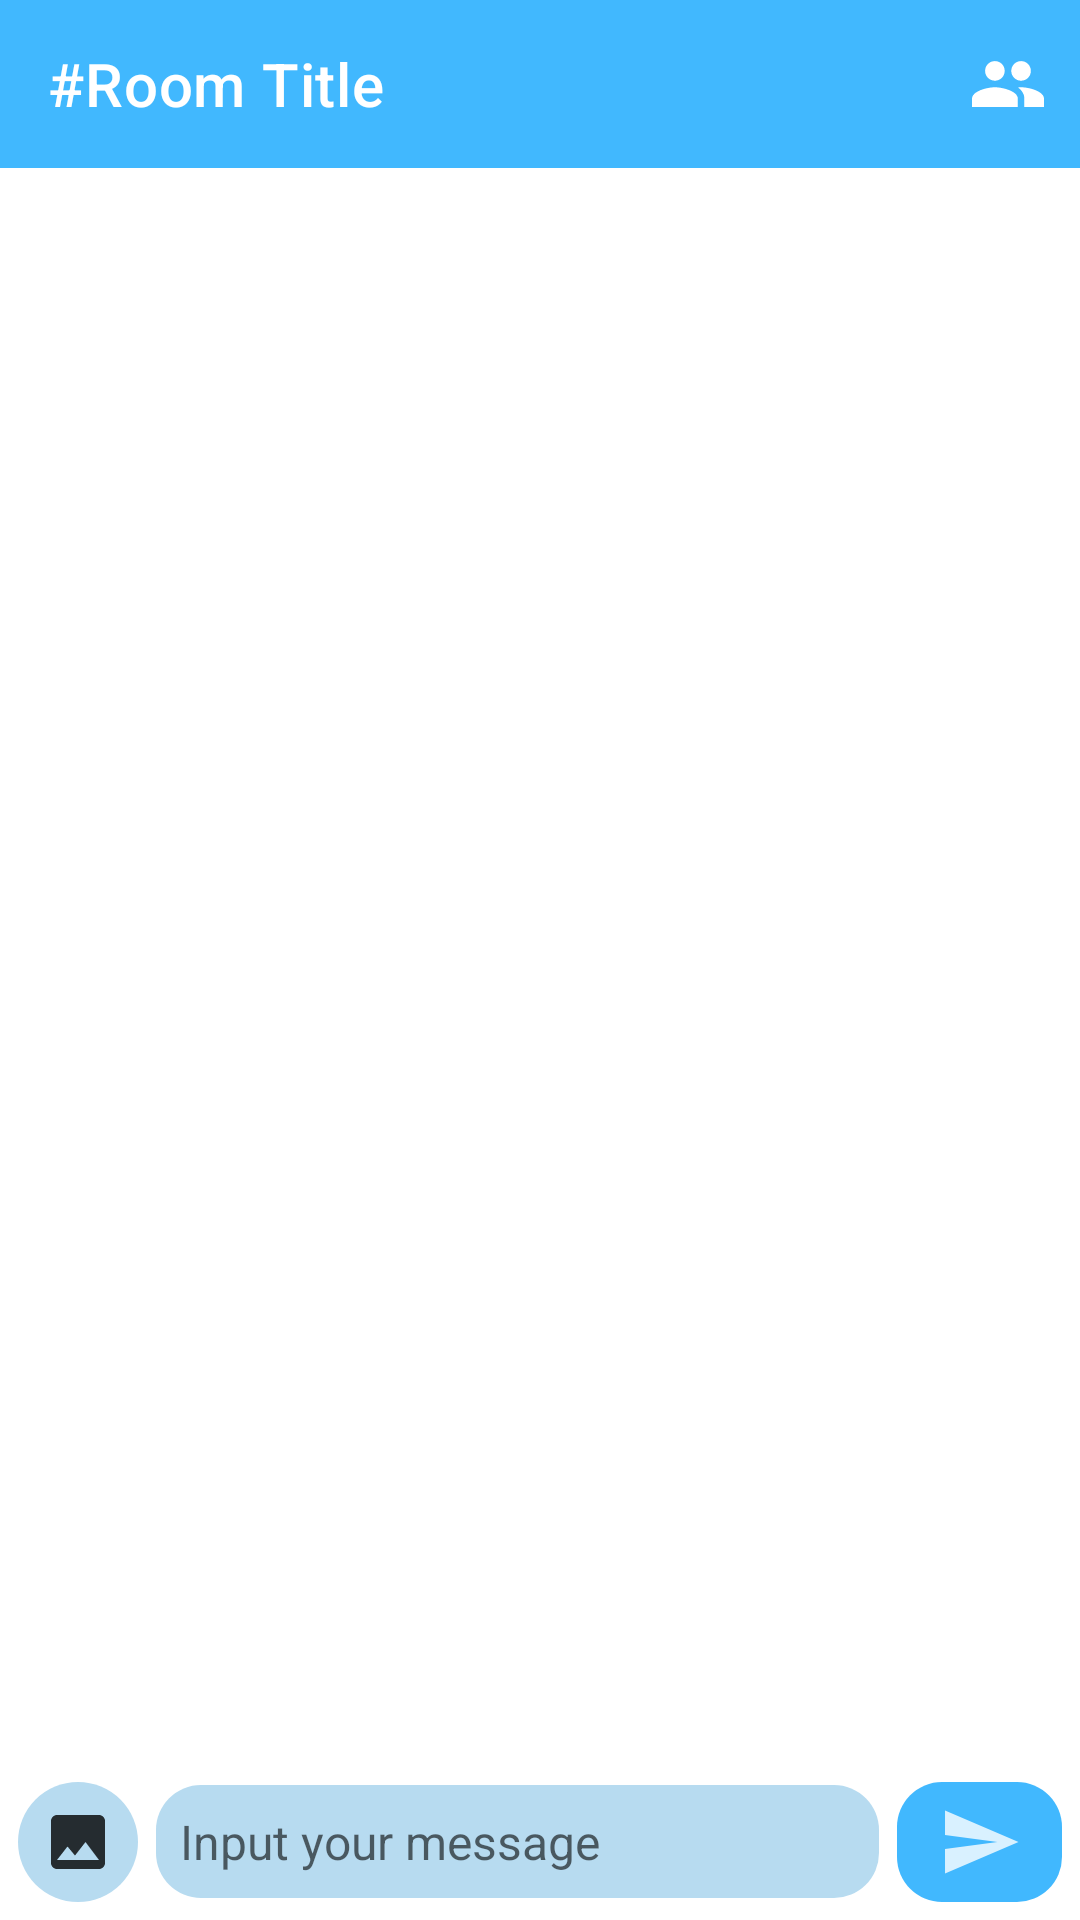

Icon click points for this 1080*1920 phone screenshot, format (x,y):
send: (979,1842)
